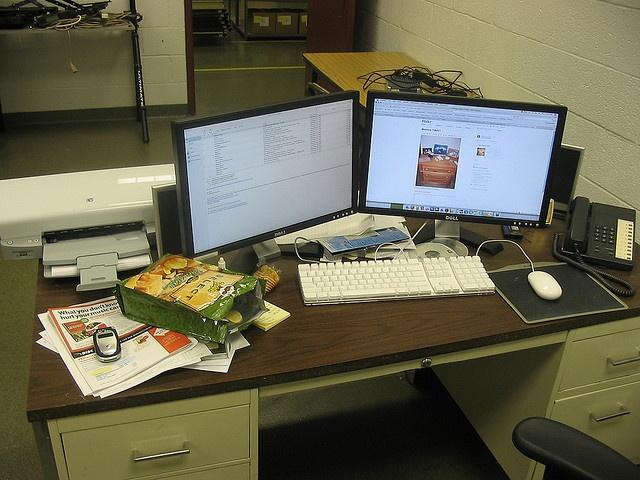AC: (0, 161, 176, 292)
AIO PC-Monitor-TV: (167, 88, 360, 260), (358, 88, 568, 228)
Meja: (302, 48, 482, 106)
